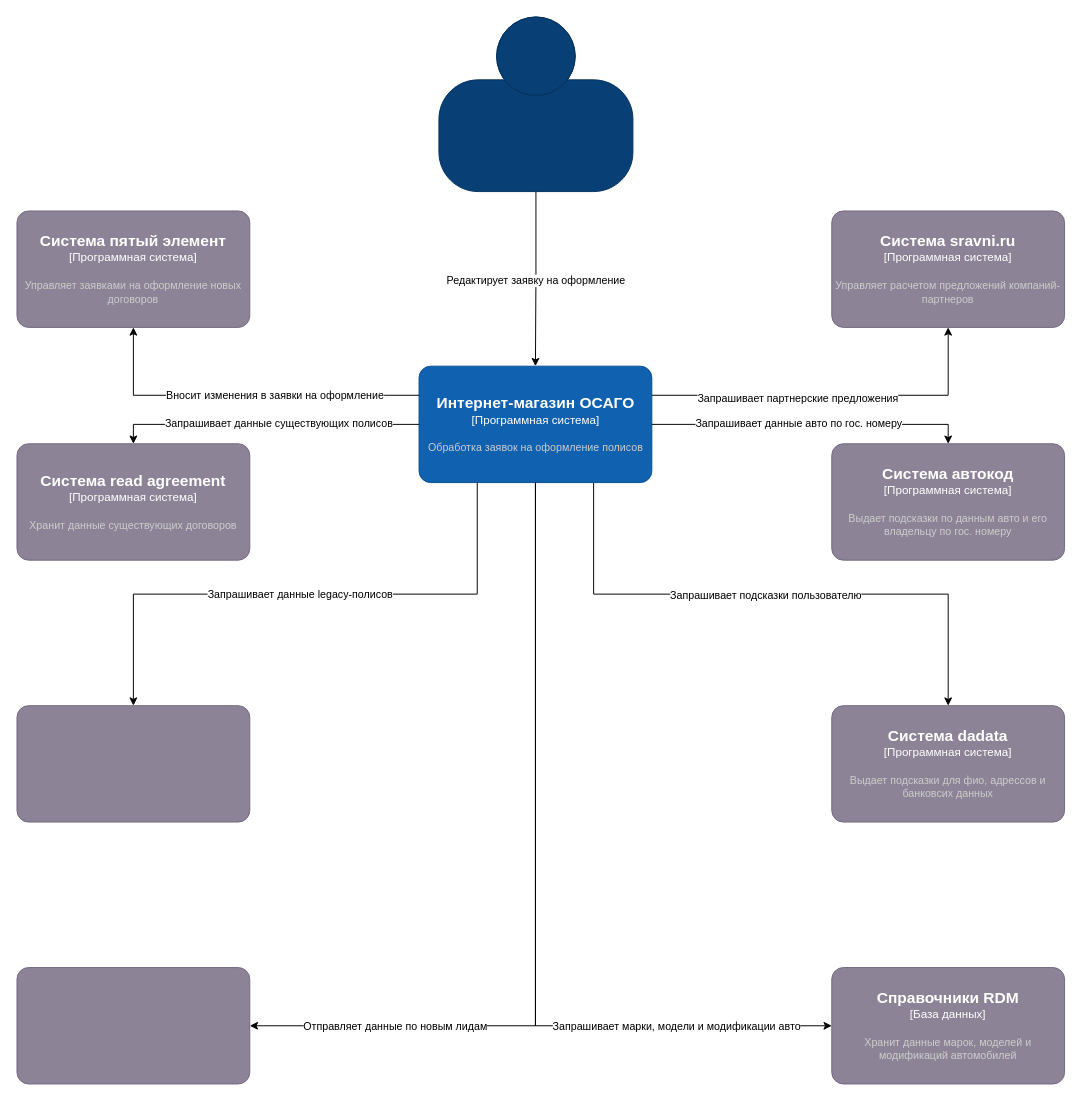
This 1082x1101 diagram has some shape labels left out. Each missing label, with the centre of its shape:
"Покупатель [Пользователь] Оформляет полисы в интернет-магазине ОСАГО" belongs at point 535,104.
"Система CRM лидов [Программная система] Управляет лидами в CRM системе" belongs at point 133,1025.
"Система web-auto [Программная система] Хранит данные legacy-договоров" belongs at point 133,763.
